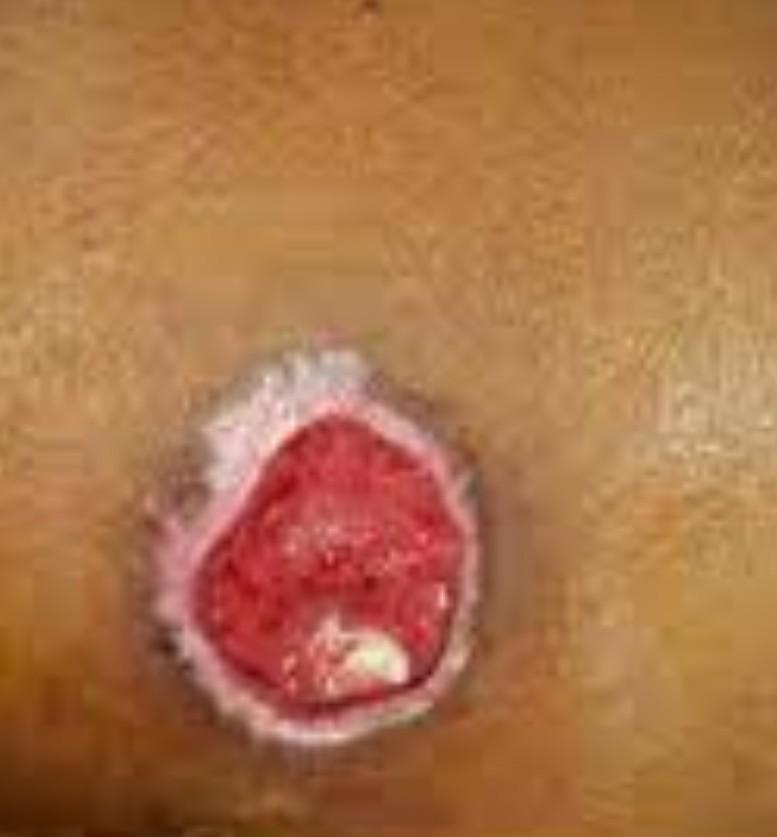Stage2: (124, 321, 551, 767)
